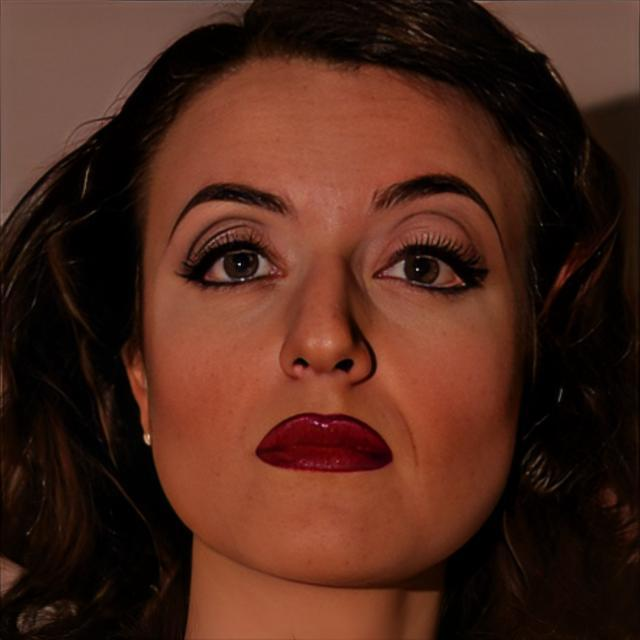surprise: (140, 61, 531, 596)
